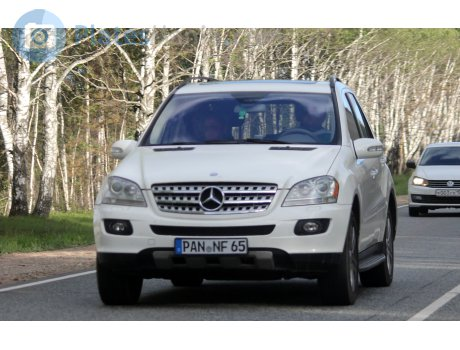License Plates: (182, 237, 247, 249)
